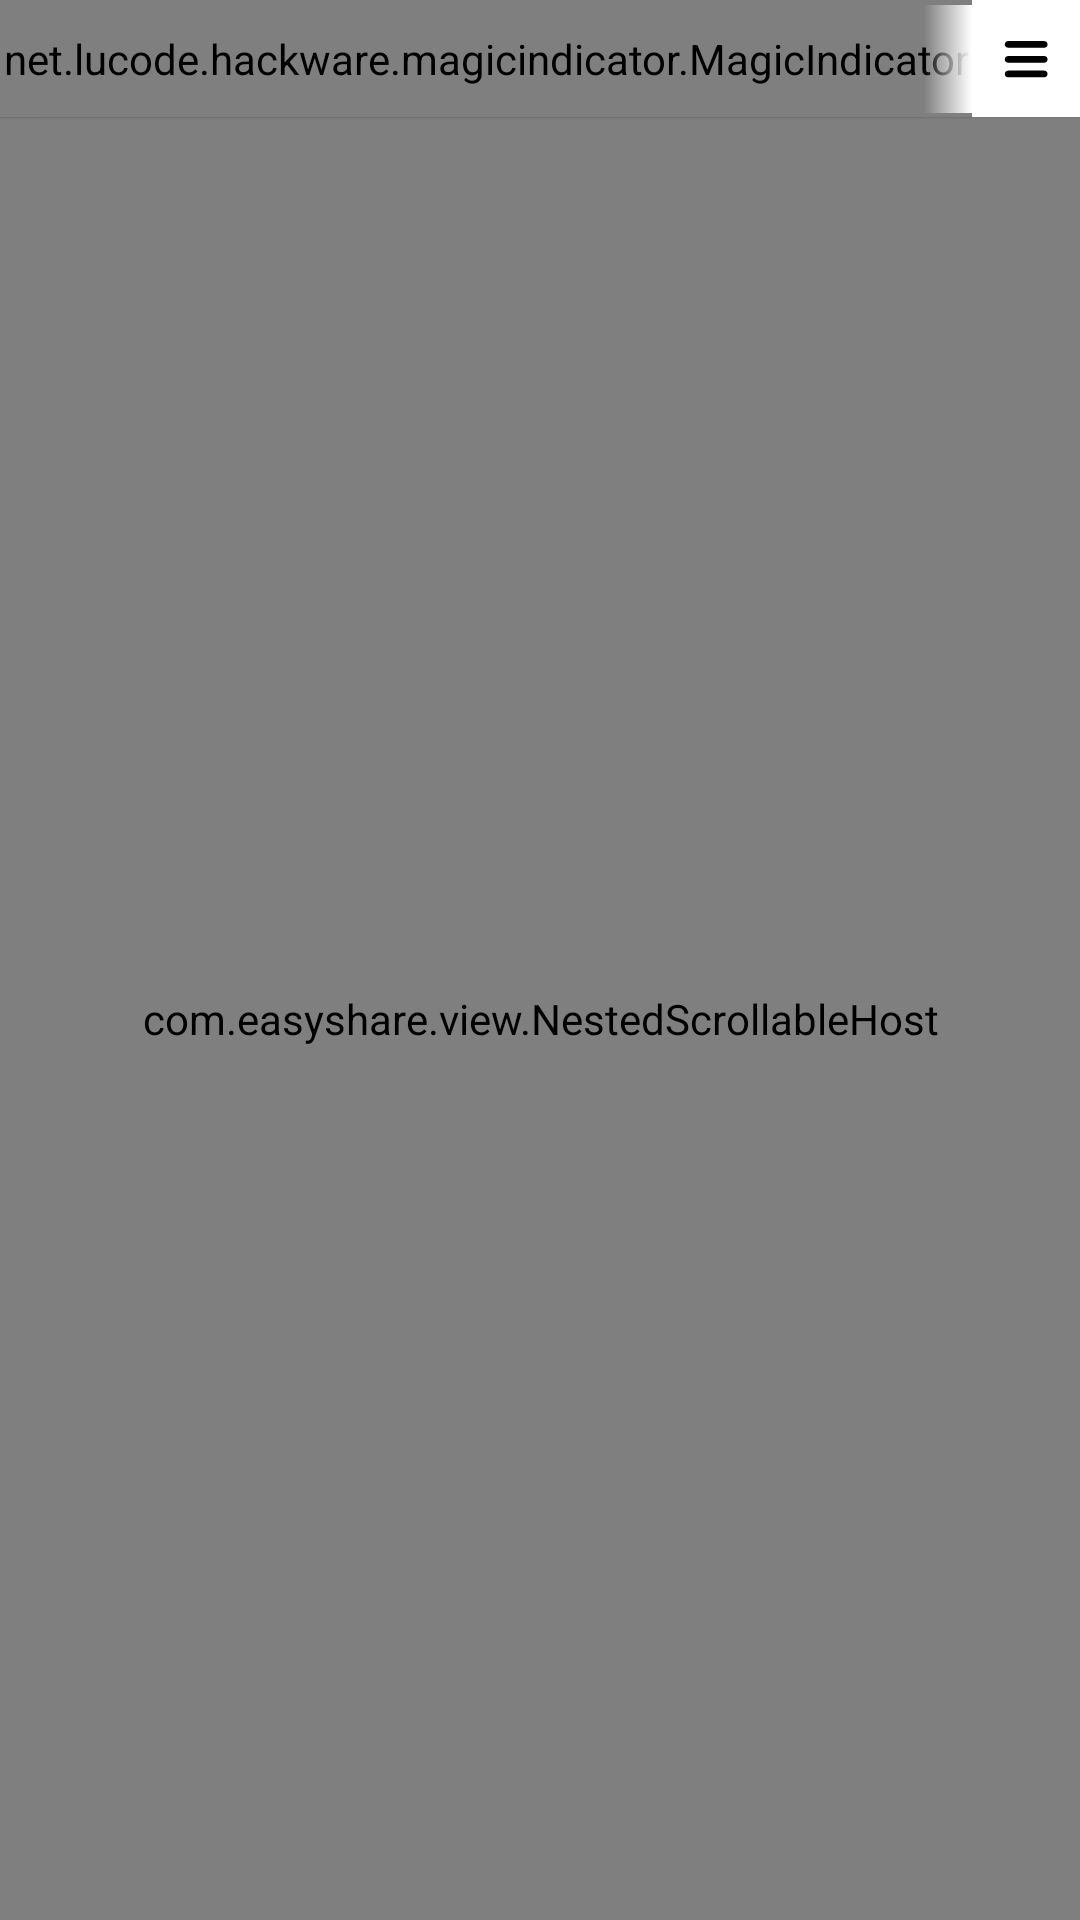

Where to tap for icons on this 1080*1920 app screen, as [x,y]:
menu: [1026,59]
